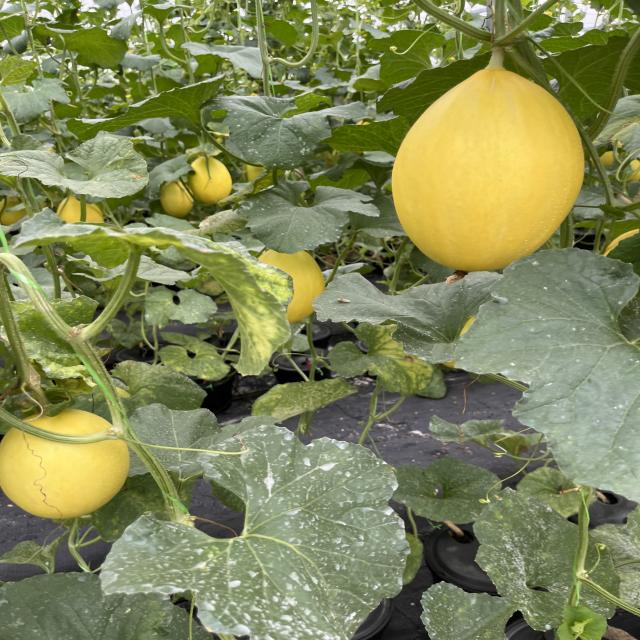downy mildew: (12, 207, 296, 379), (0, 133, 165, 200)
powdery mildew: (96, 417, 412, 640), (435, 246, 640, 499), (456, 487, 622, 629), (206, 91, 352, 168)
